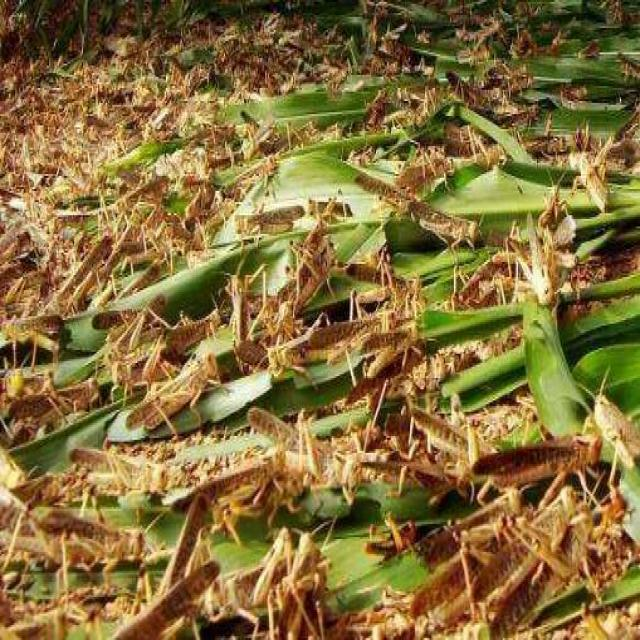ZhaMeng: (457, 411, 605, 502), (126, 349, 229, 439), (265, 312, 381, 386), (398, 189, 493, 255), (566, 132, 624, 225)
